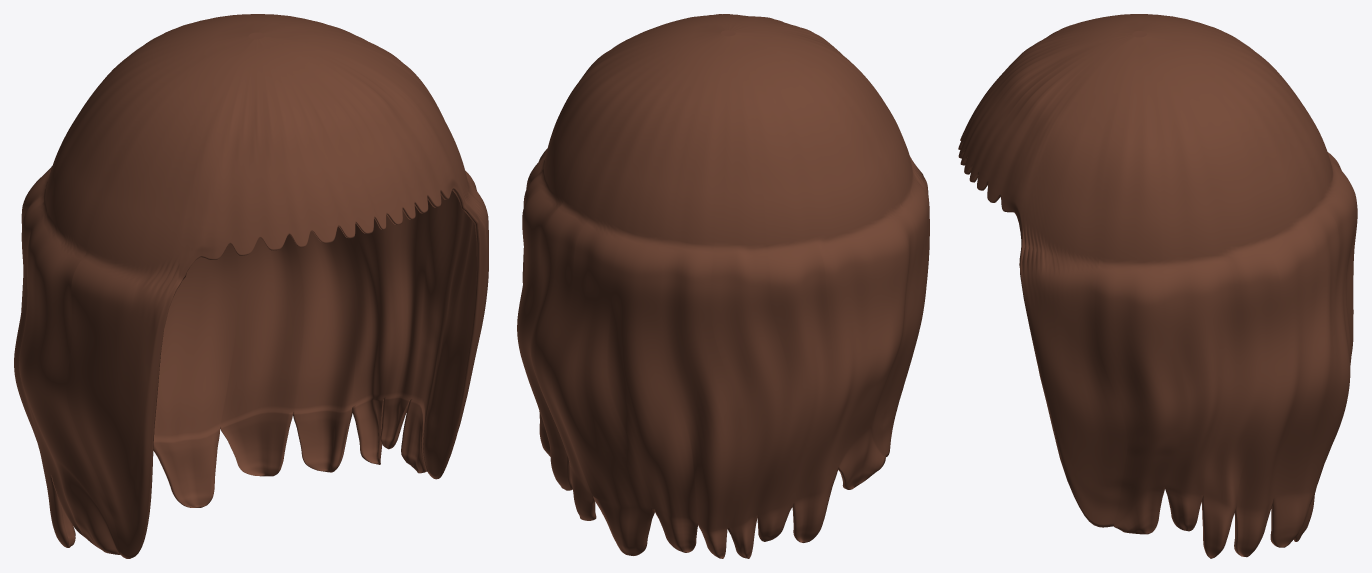
Rendered from long-beanie.glb.
3 views of the same model, side by side, from view 1: azimuth 30°, elevation 25°; view 2: azimuth 150°, elevation 25°; view 3: azimuth 270°, elevation 25° (orthographic). The views are drawn at different scales.
Parts seen in each view (by area): view 1: Hair / rounded long fringe; view 2: Hair / rounded long fringe; view 3: Hair / rounded long fringe.
Boxes of the visible parts, x1,y1,x2,y2 form: Hair / rounded long fringe: [14, 14, 488, 558]; Hair / rounded long fringe: [517, 14, 929, 558]; Hair / rounded long fringe: [958, 14, 1357, 558].
Bounding box in the file's own units: 0.8534 × 1.06 × 0.7734.
